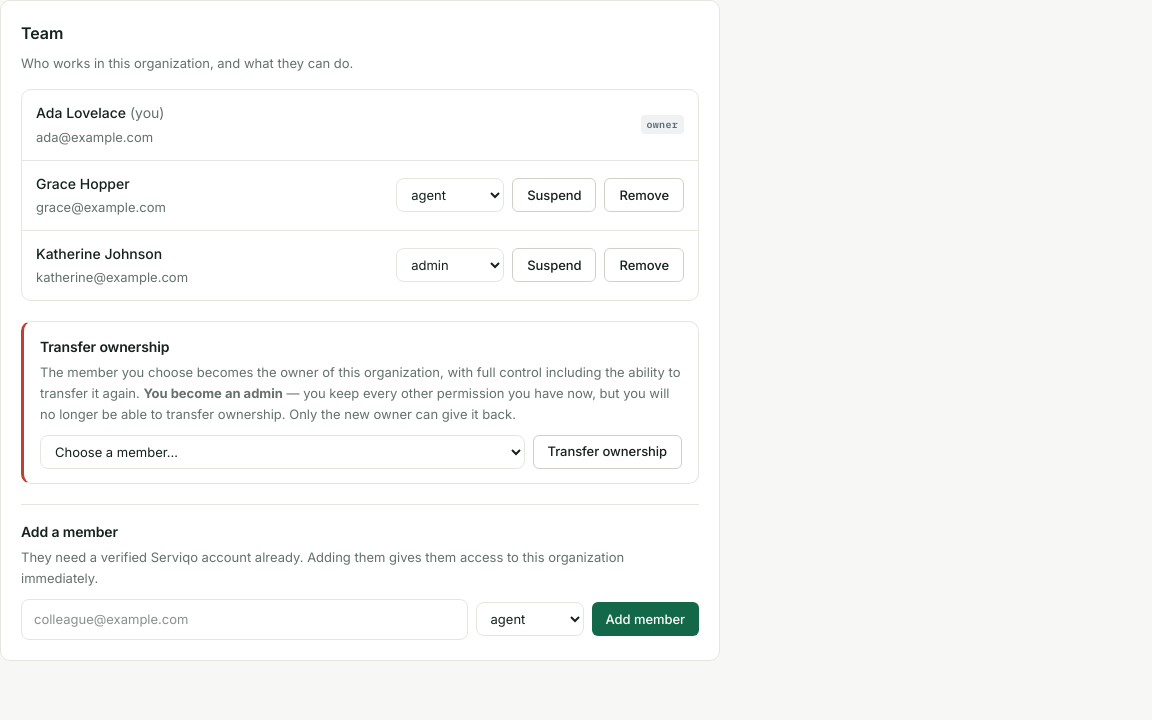
Scenario: TransferOwnership › confirmation › removes the picker while the confirmation is open, so the choice cannot move under it
This screenshot has width=1152, height=720.
Check: the text "Grace Hopper" is shown, box [36,175,130,192]
Select "Grace Hopper (agent)" in the dropdown named "new owner" below "You become an admin" at (282, 452), box [40,435,524,469]
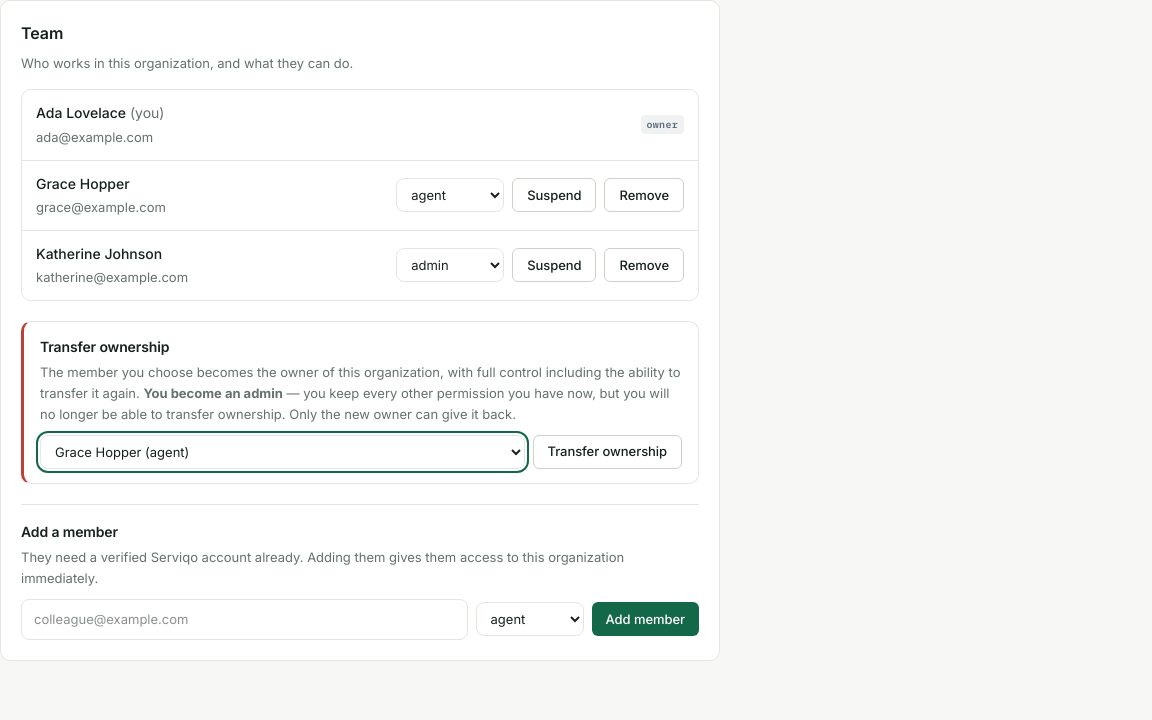
Click the button "Transfer ownership" at (607, 452), box [532,435,682,469]
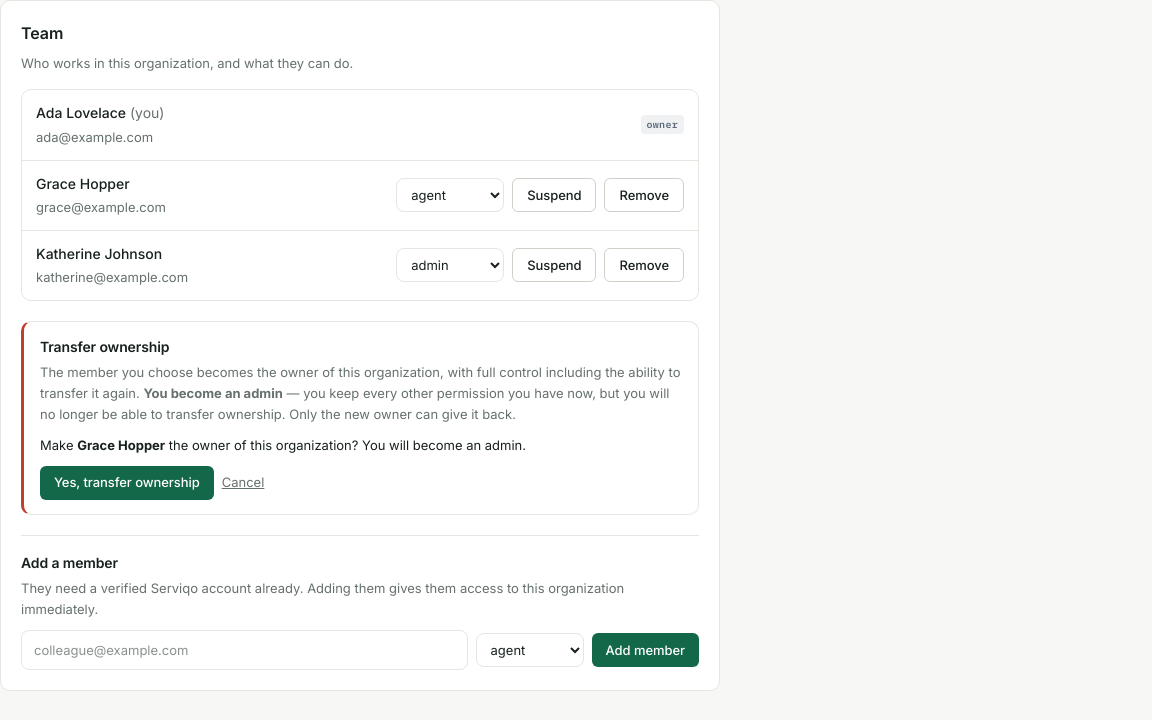
Check: the field labelled "new owner" is not shown
Check: the dialog shows "Grace Hopper", box [77,437,165,453]
